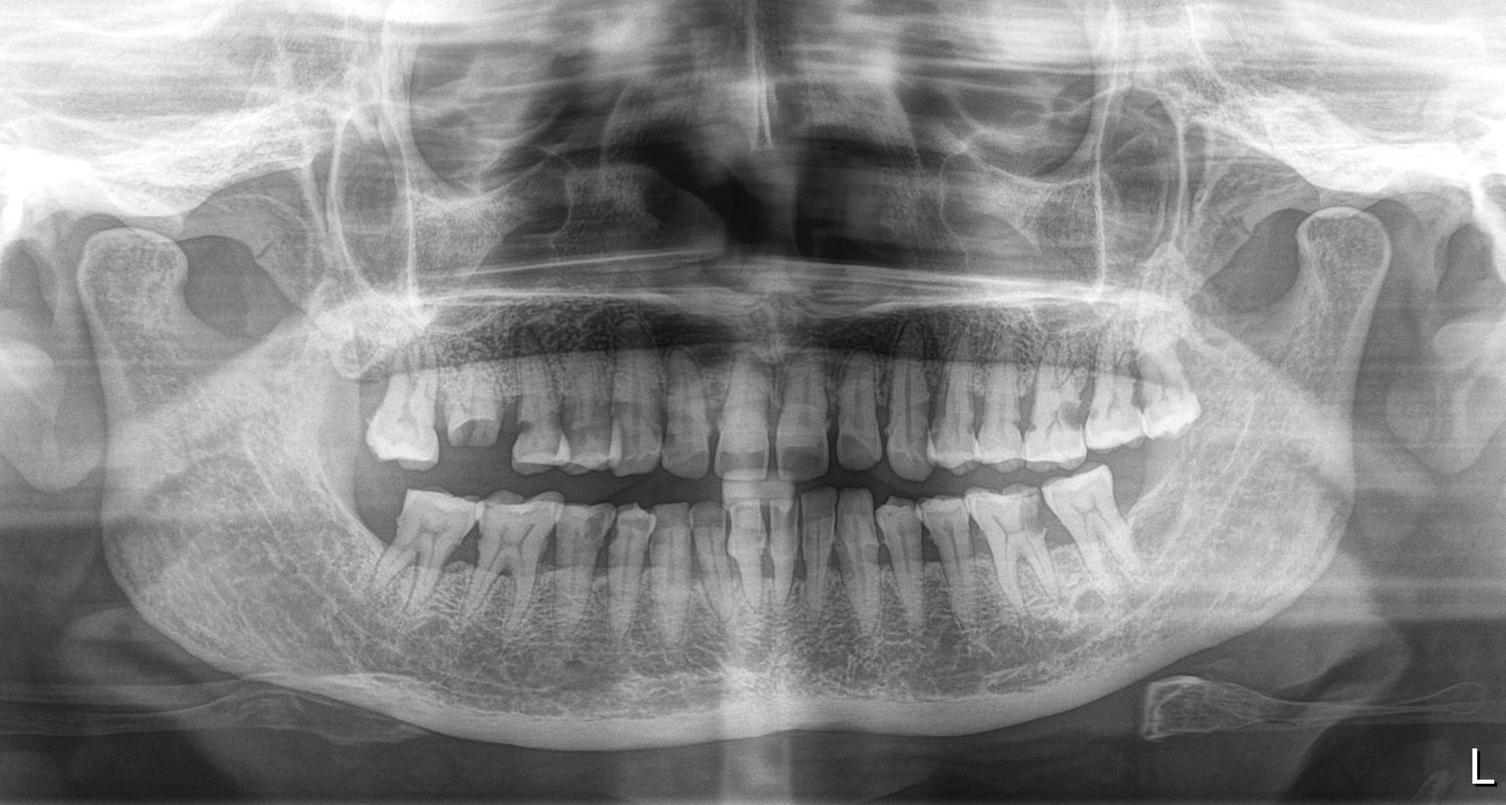Dental Caries: (443, 373, 501, 449), (1028, 493, 1076, 572), (590, 524, 626, 592), (1118, 382, 1149, 424), (1013, 395, 1038, 439), (1055, 408, 1088, 431)
Missing Tooth: (344, 469, 402, 574), (1117, 471, 1170, 553)
Periodontal Pocket: (945, 353, 993, 462)
